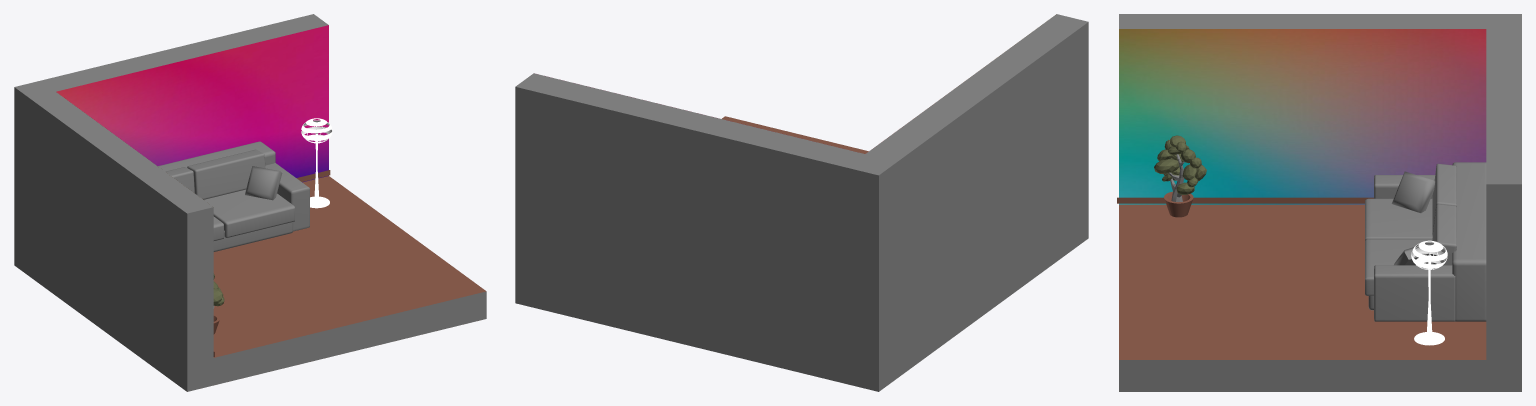
The picture shows the model from 3 angles, left to right: view 1: azimuth 30°, elevation 25°; view 2: azimuth 150°, elevation 25°; view 3: azimuth 270°, elevation 25°; orthographic projection. The views are drawn at different scales.
Visible parts, largest first — view 1: Icosphere.002, Icosphere.003, Cube.003, Cube.004, Cube.002, Cube.001, lamp.000, Cube.005, Cube; view 2: Icosphere.002; view 3: Icosphere.002, Icosphere.003, Cube.002, Cube.001, Cube.003, Oak.002, Cube.004, Cube.005, lamp.000.
Boxes of the visible parts, x1,y1,x2,y2 form: Icosphere.002: (14, 14, 486, 391); Icosphere.003: (56, 25, 328, 182); Cube.003: (204, 189, 294, 240); Cube.004: (165, 149, 265, 199); Cube.002: (265, 163, 309, 231); Cube.001: (158, 141, 275, 171); lamp.000: (301, 118, 332, 208); Cube.005: (245, 166, 282, 200); Cube: (213, 222, 292, 251); Icosphere.002: (515, 14, 1088, 391); Icosphere.002: (1117, 14, 1521, 391); Icosphere.003: (1119, 29, 1486, 204); Cube.002: (1374, 175, 1455, 321); Cube.001: (1452, 162, 1486, 321); Cube.003: (1365, 198, 1432, 295); Oak.002: (1154, 135, 1206, 217); Cube.004: (1432, 163, 1456, 265); Cube.005: (1391, 171, 1434, 265); lamp.000: (1411, 240, 1447, 345).
Bounding box in the file's own units: 8.43 × 4.78 × 8.45.
8 materials, 1 textured.
